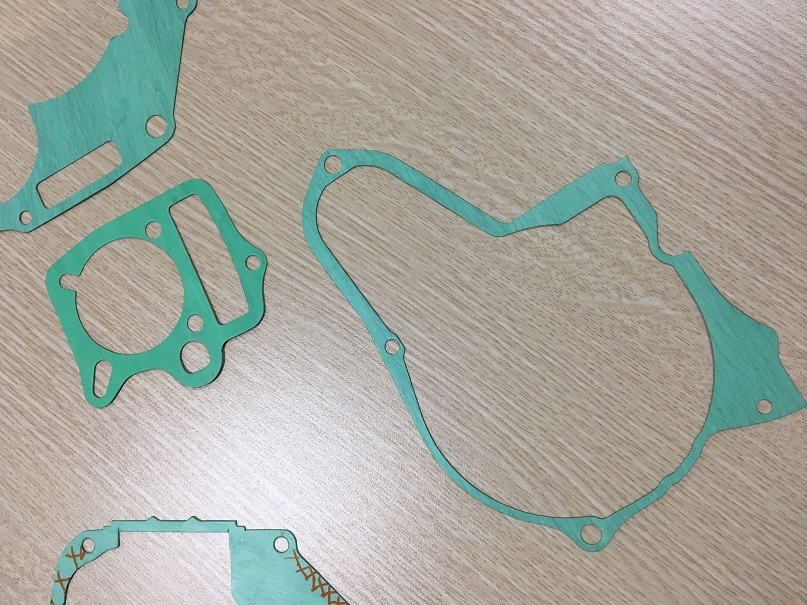type1: (291, 137, 807, 557)
type4: (31, 169, 277, 411)
